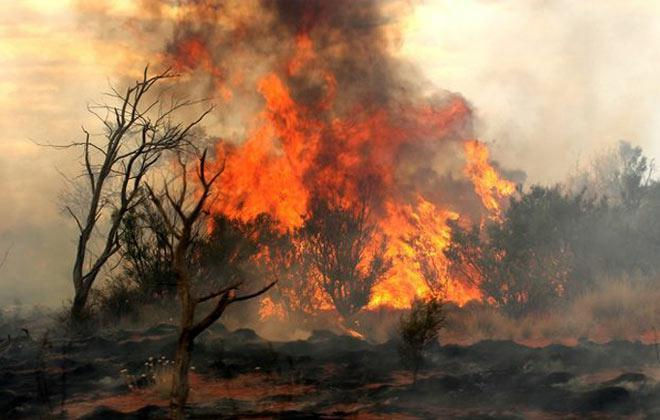fire: (139, 5, 512, 306)
